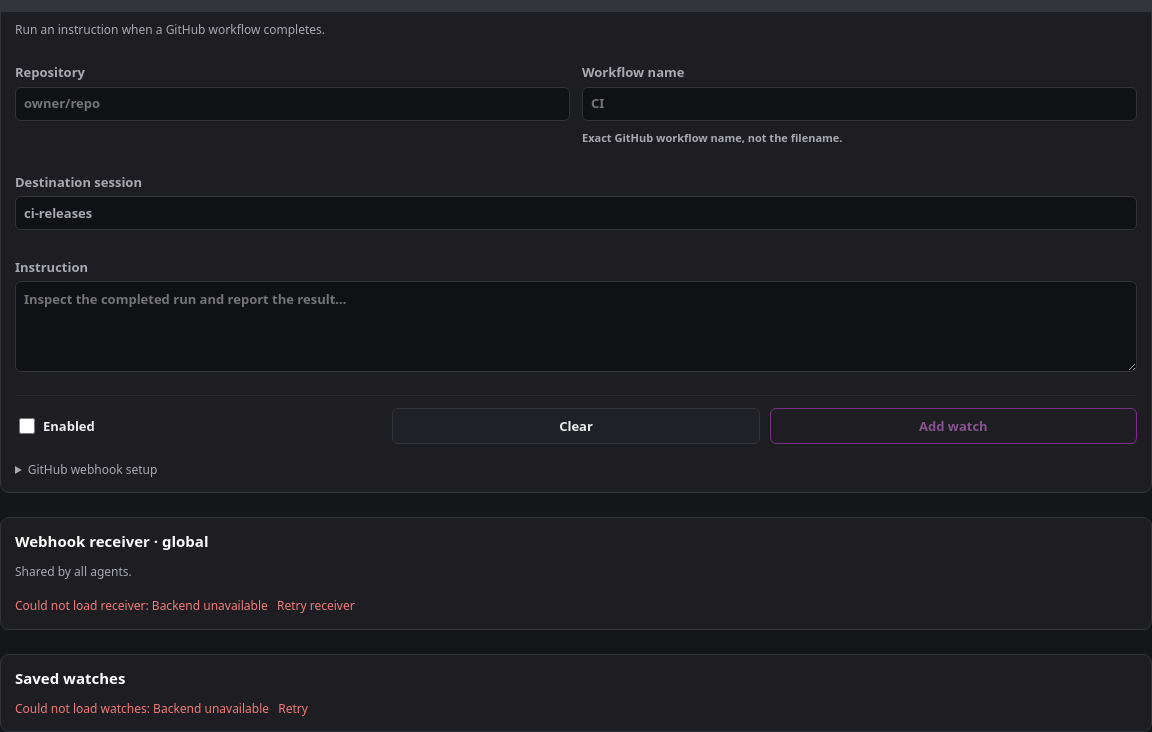
it: does not confuse read failure with empty state and supports retry
The image size is (1152, 732).
(page scrolled)
Expected: the text "Could not load watches: Backend unavailable Retry" is shown, [15,700,314,718]
Expected: the text "No watches for this agent." is not shown
Click the button "Retry". click: (293, 709)
box: [272,700,314,718]
(page scrolled)
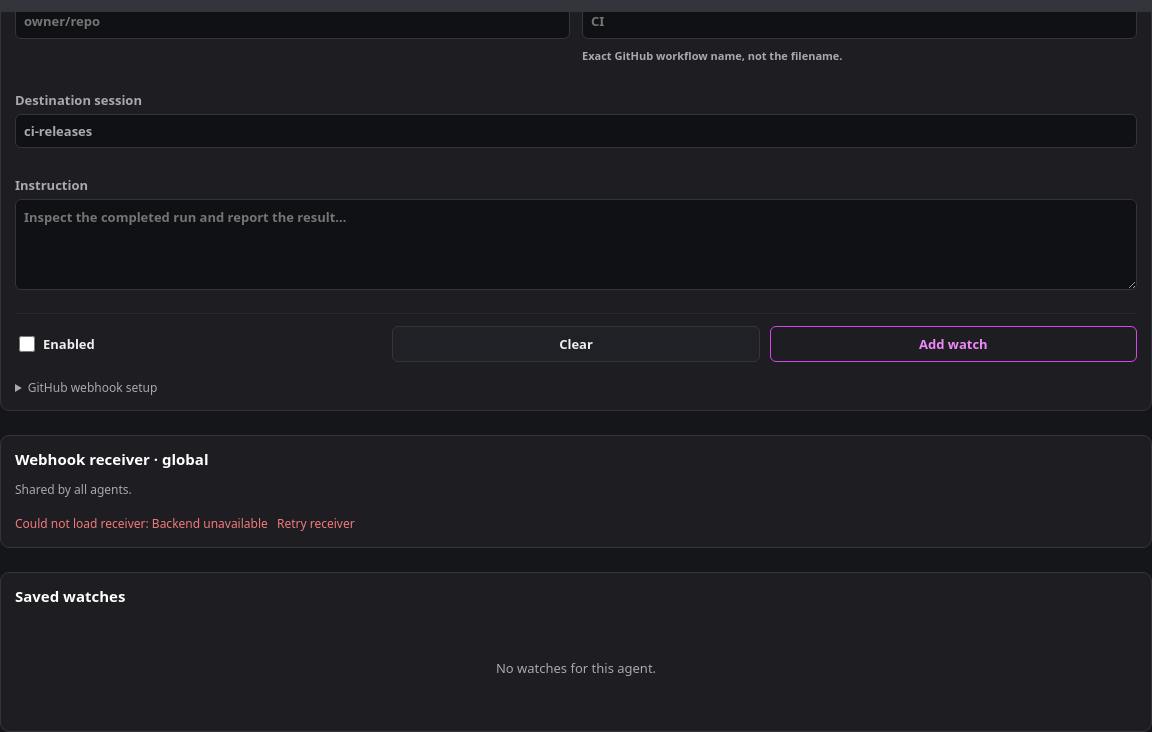
Expected: the text "No watches for this agent." is shown, [496,659,656,677]
